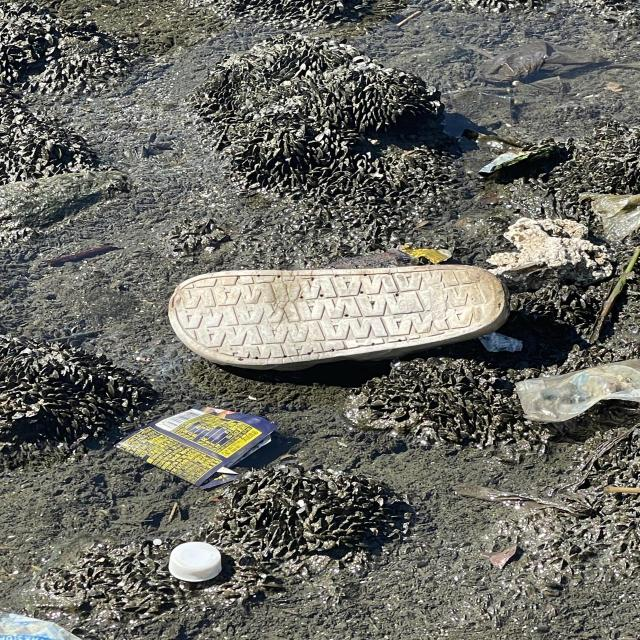litter: (165, 262, 510, 374), (107, 406, 277, 489), (514, 358, 640, 422), (0, 614, 112, 640), (168, 542, 222, 584)
